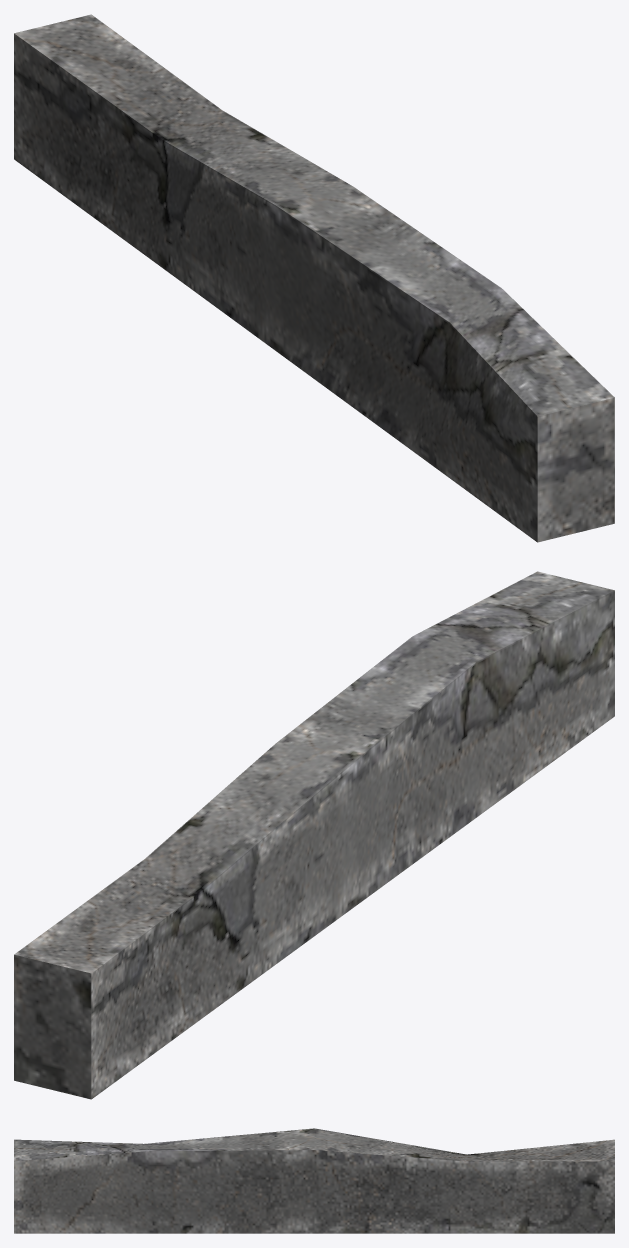
Rendered from HH_Curbstone_Damage.fbx.
The picture shows the model from 3 angles, top to bottom: view 1: azimuth 30°, elevation 25°; view 2: azimuth 150°, elevation 25°; view 3: azimuth 270°, elevation 25°; orthographic projection. The views are drawn at different scales.
Visible parts, largest first — view 1: HH_Curbstone_Damage; view 2: HH_Curbstone_Damage; view 3: HH_Curbstone_Damage.
Boxes of the visible parts, box(x1,y1,x2,y2) form: HH_Curbstone_Damage: box(14, 14, 614, 542); HH_Curbstone_Damage: box(14, 571, 614, 1099); HH_Curbstone_Damage: box(14, 1128, 614, 1233).
Bounding box in the file's own units: 9.21 × 15.47 × 100.
